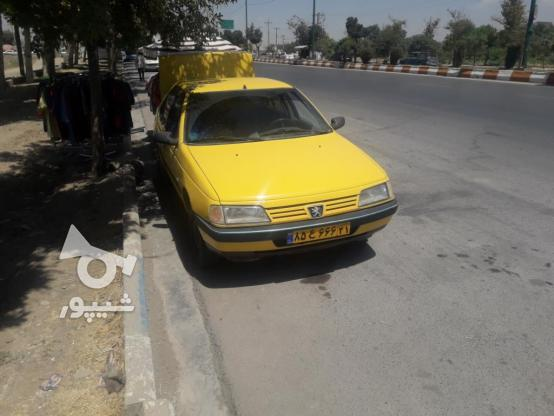car: (283, 220, 349, 250)
